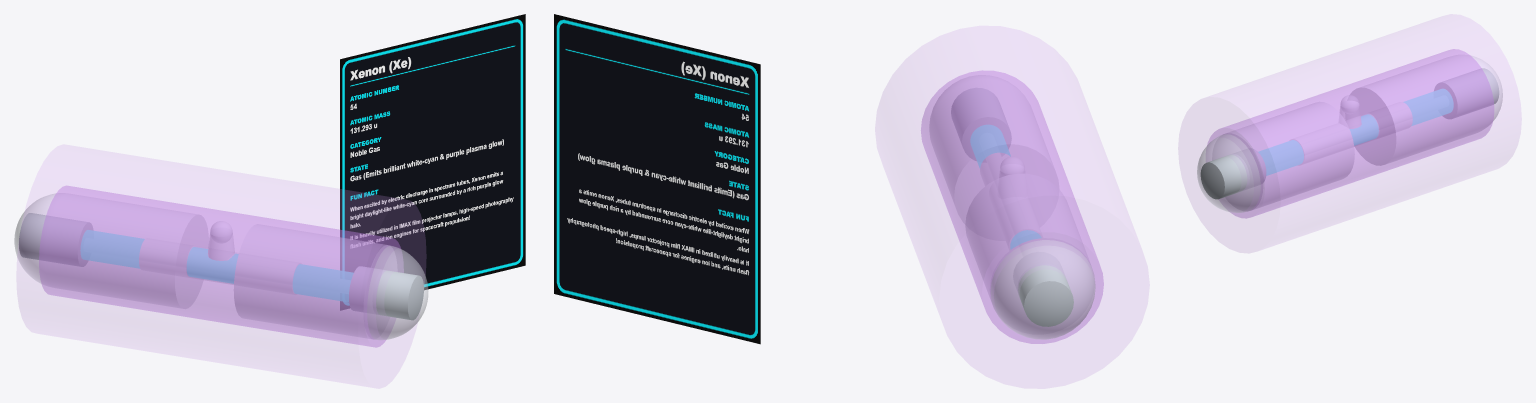
The model's file is xenon.glb.
3 views of the same model, side by side, from view 1: azimuth 30°, elevation 25°; view 2: azimuth 150°, elevation 25°; view 3: azimuth 270°, elevation 25° (orthographic). The views are drawn at different scales.
Parts seen in each view (by area): view 1: Mesh_12, Mesh_14, Mesh_11, Mesh_3, Mesh_2, Mesh_5, Mesh_10, Mesh_1, Mesh_0, Mesh_6, Mesh_4, Mesh_7; view 2: Mesh_12, Mesh_14, Mesh_11, Mesh_2, Mesh_6, Mesh_3, Mesh_1, Mesh_0, Mesh_10; view 3: Mesh_12, Mesh_11, Mesh_3, Mesh_2, Mesh_5, Mesh_10, Mesh_1, Mesh_0, Mesh_6, Mesh_4, Mesh_7.
Boxes of the visible parts, x1,y1,x2,y2 form: Mesh_12: [17, 145, 425, 388]; Mesh_14: [340, 14, 525, 310]; Mesh_11: [39, 185, 403, 347]; Mesh_3: [46, 194, 208, 308]; Mesh_2: [234, 224, 385, 338]; Mesh_5: [364, 245, 428, 339]; Mesh_10: [81, 230, 352, 301]; Mesh_1: [19, 213, 92, 266]; Mesh_0: [349, 267, 423, 320]; Mesh_6: [14, 193, 65, 286]; Mesh_4: [186, 246, 238, 284]; Mesh_7: [208, 233, 234, 260]; Mesh_12: [875, 26, 1149, 388]; Mesh_14: [554, 14, 760, 344]; Mesh_11: [921, 70, 1103, 343]; Mesh_2: [930, 80, 1058, 223]; Mesh_6: [990, 238, 1095, 339]; Mesh_3: [966, 174, 1089, 298]; Mesh_1: [1017, 264, 1073, 326]; Mesh_0: [951, 88, 1011, 160]; Mesh_10: [971, 125, 1040, 248]; Mesh_12: [1178, 14, 1521, 252]; Mesh_11: [1206, 49, 1493, 218]; Mesh_3: [1350, 56, 1487, 165]; Mesh_2: [1229, 102, 1354, 208]; Mesh_5: [1197, 133, 1262, 212]; Mesh_10: [1259, 89, 1452, 174]; Mesh_1: [1434, 68, 1498, 118]; Mesh_0: [1200, 149, 1265, 199]; Mesh_6: [1455, 55, 1502, 130]; Mesh_4: [1350, 113, 1379, 146]; Mesh_7: [1340, 106, 1360, 128].
Bounding box in the file's own units: 2.27 × 1.05 × 1.52.
Materials: 7 (1 with a texture image).
